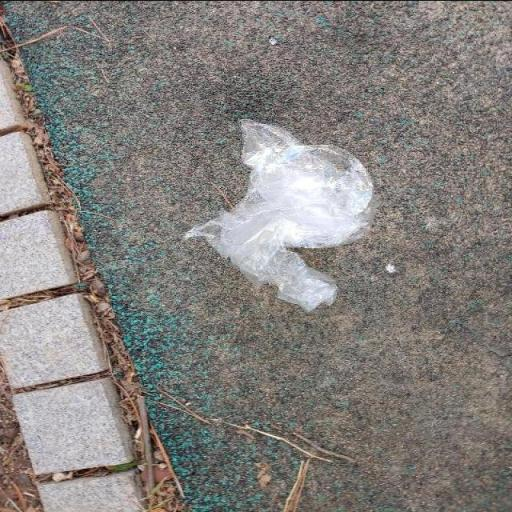plastic-bag: (178, 113, 379, 316)
